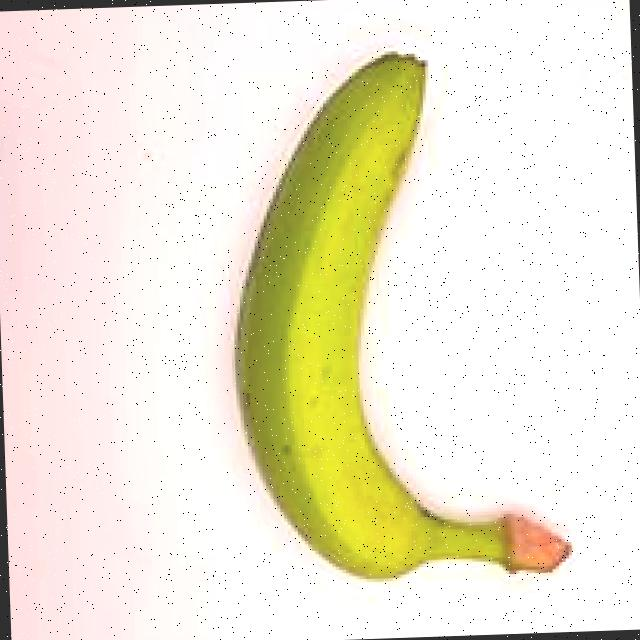Raw: (147, 38, 618, 612)
